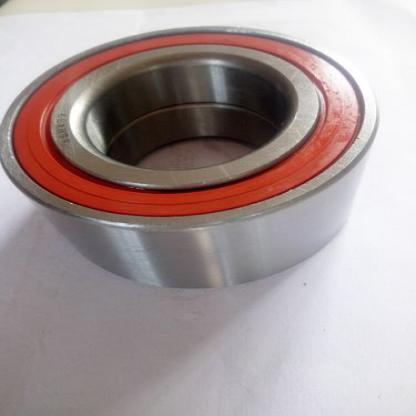FOD: (0, 22, 385, 296)
